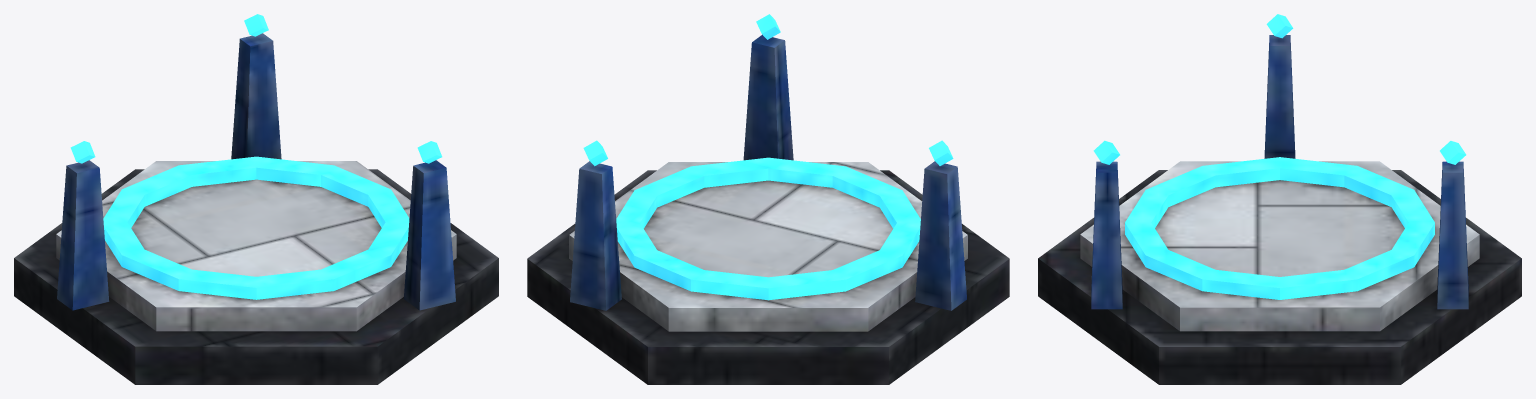
The model's file is u_arcbase1_w.glb.
The picture shows the model from 3 angles, left to right: view 1: azimuth 30°, elevation 25°; view 2: azimuth 150°, elevation 25°; view 3: azimuth 270°, elevation 25°; orthographic projection.
Visible parts, largest first — view 1: u_arcbase1_w; view 2: u_arcbase1_w; view 3: u_arcbase1_w.
Part boxes in pixels (x1=…): u_arcbase1_w: x1=14, y1=14, x2=498, y2=384; u_arcbase1_w: x1=527, y1=14, x2=1009, y2=384; u_arcbase1_w: x1=1038, y1=14, x2=1521, y2=384.
Size of the model in its own units: 0.8184 by 0.4156 by 0.92.
1 material, 1 textured.
